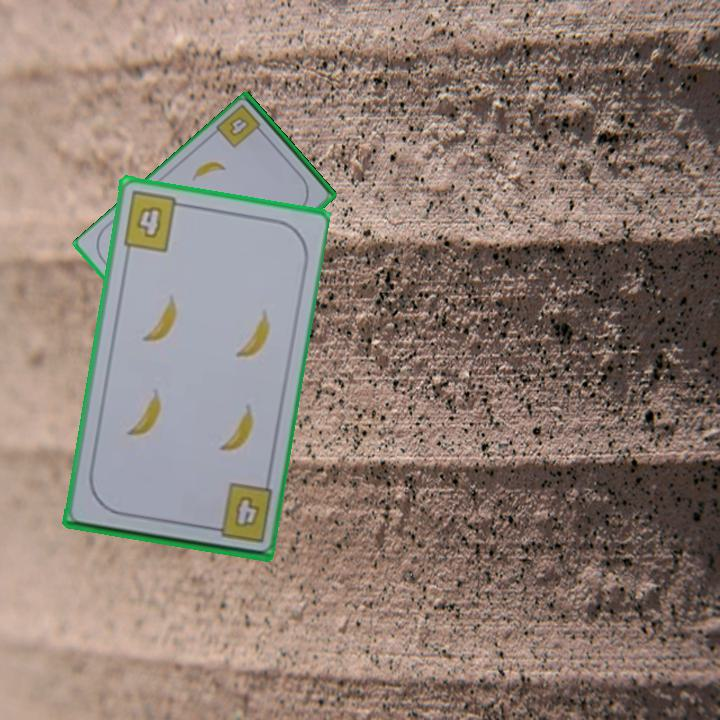4b: (202, 480, 275, 546), (119, 188, 189, 255), (213, 101, 268, 151)
